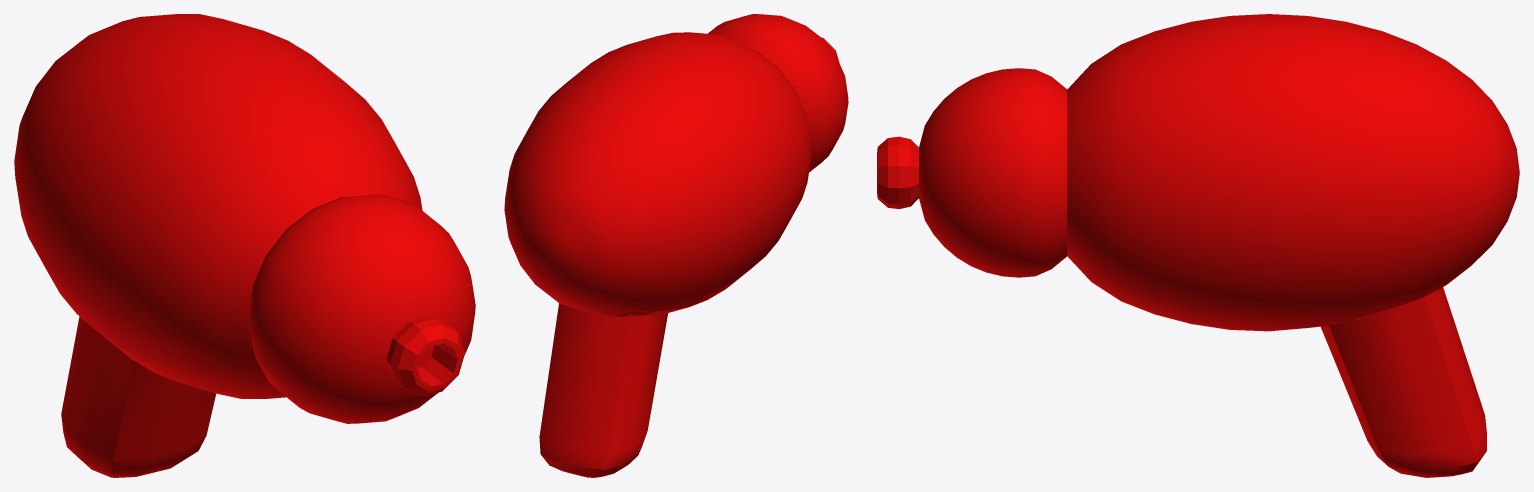
File: BubbleGun.fbx
The picture shows the model from 3 angles, left to right: view 1: azimuth 30°, elevation 25°; view 2: azimuth 150°, elevation 25°; view 3: azimuth 270°, elevation 25°; orthographic projection. The views are drawn at different scales.
Parts seen in each view (by area): view 1: pSphere9; view 2: pSphere9; view 3: pSphere9.
Boxes of the visible parts, bbox=[...] form: pSphere9: bbox=[14, 14, 475, 477]; pSphere9: bbox=[504, 14, 848, 477]; pSphere9: bbox=[877, 14, 1519, 477].
Size of the model in its own units: 3.03 by 4.57 by 6.09.
